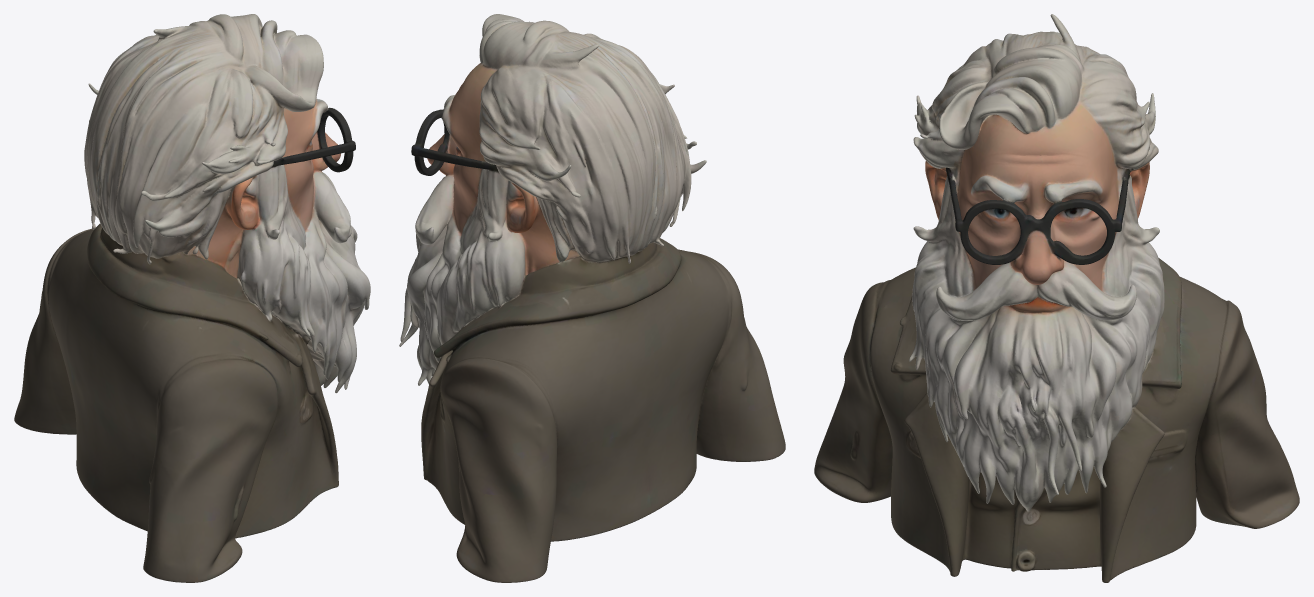
Rendered from detailed_realistic_model_albusdumbledore_25.glb.
The picture shows the model from 3 angles, left to right: view 1: azimuth 30°, elevation 25°; view 2: azimuth 150°, elevation 25°; view 3: azimuth 270°, elevation 25°; orthographic projection. The views are drawn at different scales.
Parts seen in each view (by area): view 1: tripo_node_23af5205-56f4-4abe-8884-0e85cf2344c2; view 2: tripo_node_23af5205-56f4-4abe-8884-0e85cf2344c2; view 3: tripo_node_23af5205-56f4-4abe-8884-0e85cf2344c2.
Part boxes in pixels (<box>): tripo_node_23af5205-56f4-4abe-8884-0e85cf2344c2: <box>14,14,370,582</box>; tripo_node_23af5205-56f4-4abe-8884-0e85cf2344c2: <box>399,14,785,582</box>; tripo_node_23af5205-56f4-4abe-8884-0e85cf2344c2: <box>814,14,1299,582</box>.
Size of the model in its own units: 0.6735 by 1 by 0.8958.
1 material, 1 textured.
